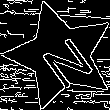N_NW: (28, 24, 92, 87)
